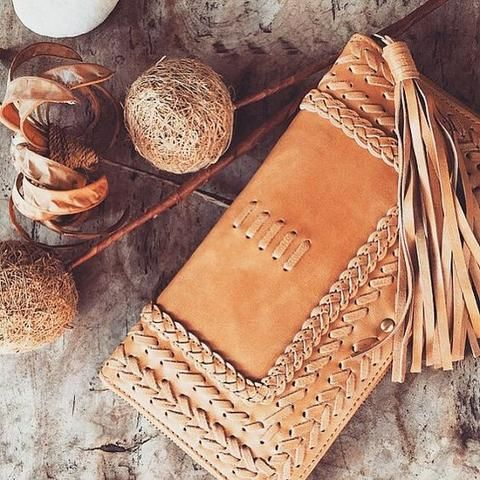cuero: (100, 31, 480, 480)
